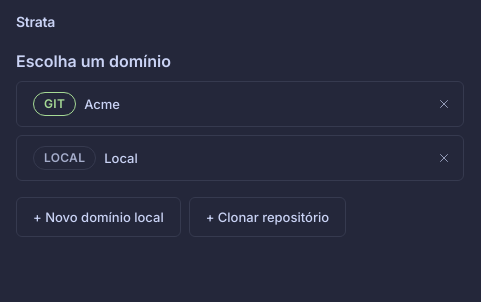
it: DomainPicker › reveals the local-domain form
Expected: the button "Git Acme" is shown, x1=16 y1=81 x2=464 y2=127
Click the button "+ Novo domínio local".
click(98, 217)  # box x1=16 y1=197 x2=181 y2=237
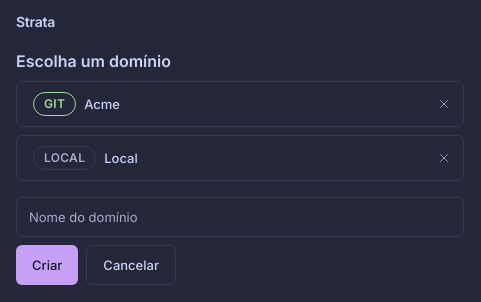
Expected: the field with placeholder "Nome do domínio" is shown, x1=16 y1=197 x2=464 y2=237
